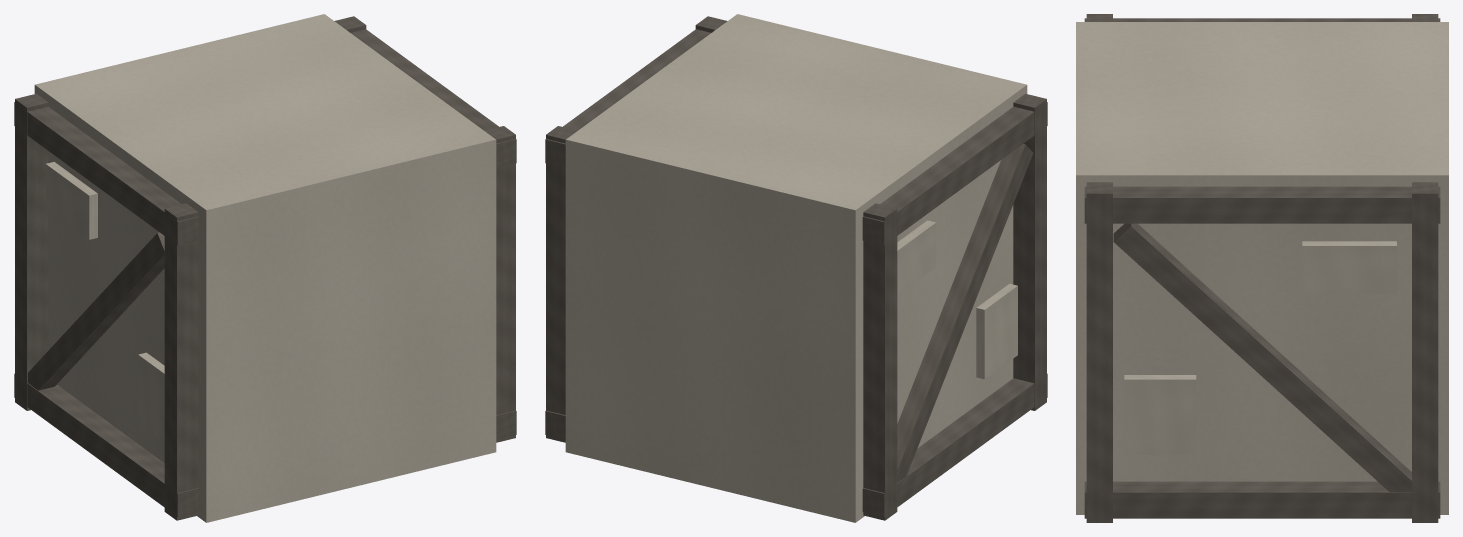
Rendered from lime_wall_x.glb.
The picture shows the model from 3 angles, left to right: view 1: azimuth 30°, elevation 25°; view 2: azimuth 150°, elevation 25°; view 3: azimuth 270°, elevation 25°; orthographic projection. The views are drawn at different scales.
Parts seen in each view (by area): view 1: G3_lime_x; view 2: G3_lime_x; view 3: G3_lime_x.
Boxes of the visible parts, x1,y1,x2,y2 form: G3_lime_x: [14, 14, 516, 522]; G3_lime_x: [545, 14, 1047, 522]; G3_lime_x: [1076, 14, 1448, 522].
Size of the model in its own units: 1.12 by 0.99 by 0.985.
2 materials, 2 textured.
